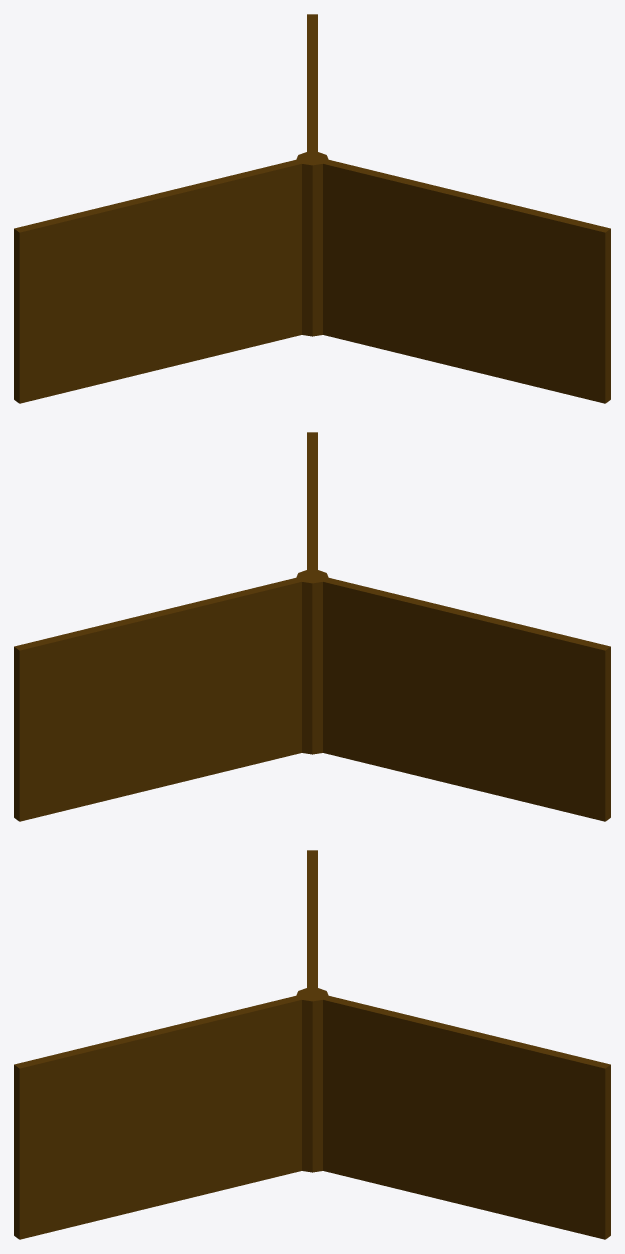
Rendered from Hole6Spin.fbx.
3 views of the same model, one above another, from view 1: azimuth 30°, elevation 25°; view 2: azimuth 150°, elevation 25°; view 3: azimuth 270°, elevation 25° (orthographic).
Visible parts, largest first — view 1: pCylinder1; view 2: pCylinder1; view 3: pCylinder1.
Part boxes in pixels (<box>): pCylinder1: <box>14,14,610,403</box>; pCylinder1: <box>14,432,610,821</box>; pCylinder1: <box>14,850,610,1239</box>.
Size of the model in its own units: 31.43 by 11.48 by 36.29.
